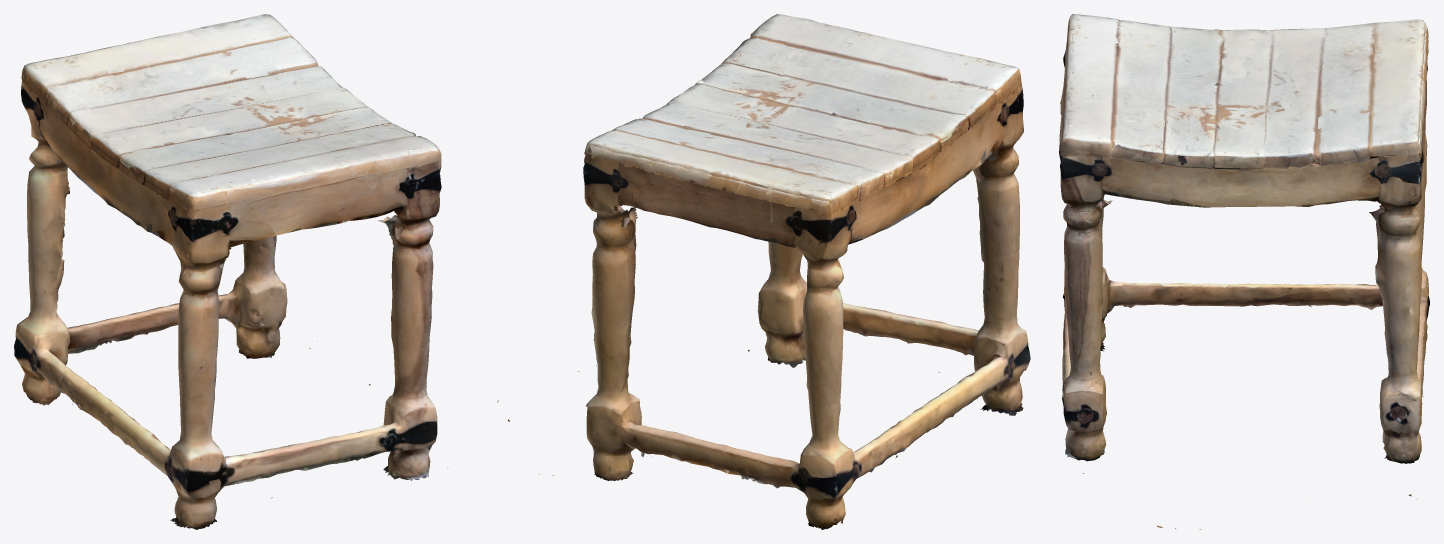
File: WoodenStool.obj
The picture shows the model from 3 angles, left to right: view 1: azimuth 30°, elevation 25°; view 2: azimuth 150°, elevation 25°; view 3: azimuth 270°, elevation 25°; orthographic projection. The views are drawn at different scales.
Visible parts, largest first — view 1: model; view 2: model; view 3: model.
Boxes of the visible parts, x1=… form: model: x1=14, y1=14, x2=509, y2=529; model: x1=538, y1=14, x2=1030, y2=529; model: x1=1059, y1=14, x2=1429, y2=529.
Bounding box in the file's own units: 2.63 × 2.3 × 2.25.
2 materials, 2 textured.
